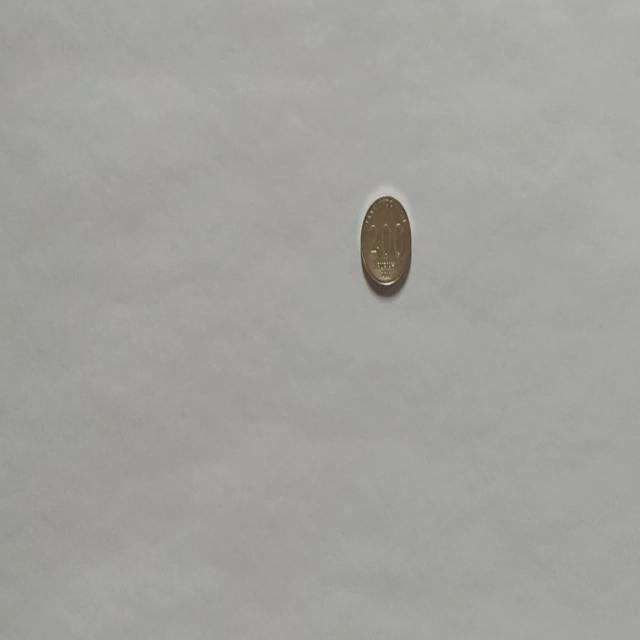dua ratus rupiah: (360, 193, 412, 291)
